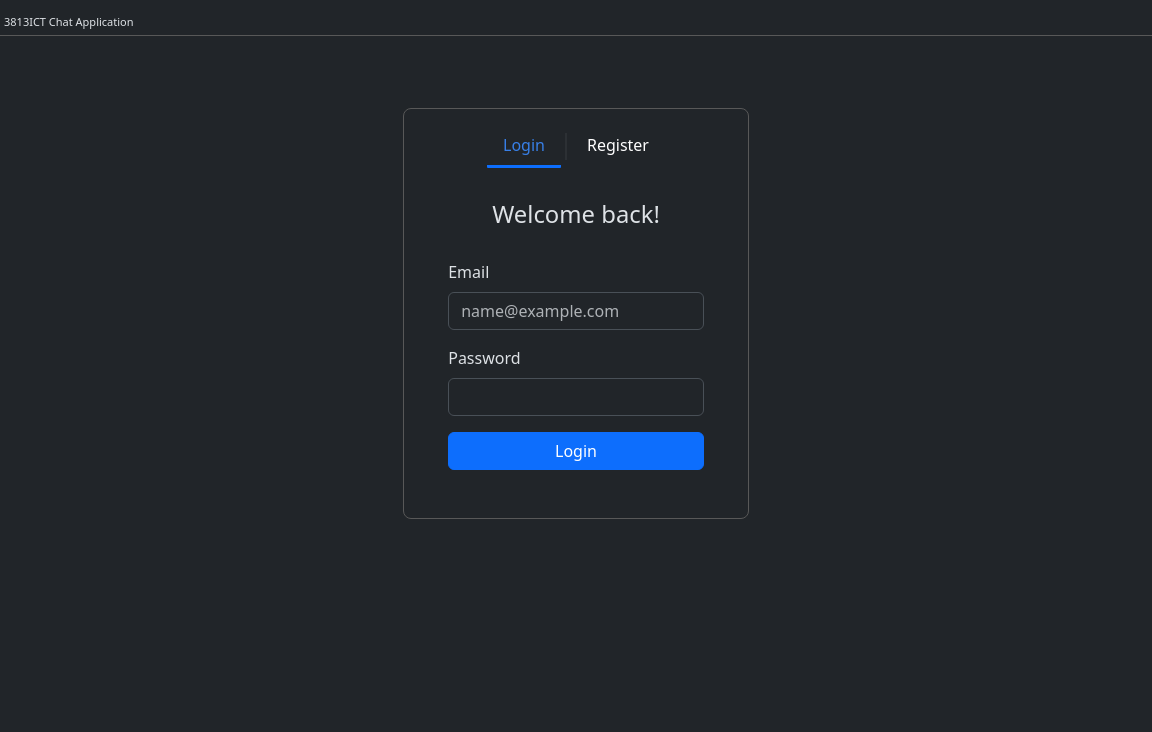
Test case: Register Flow E2E Test › Should display account registration form
Step 1. Click the tab "Register" → {"x": 618, "y": 147}, box [571, 125, 665, 168]
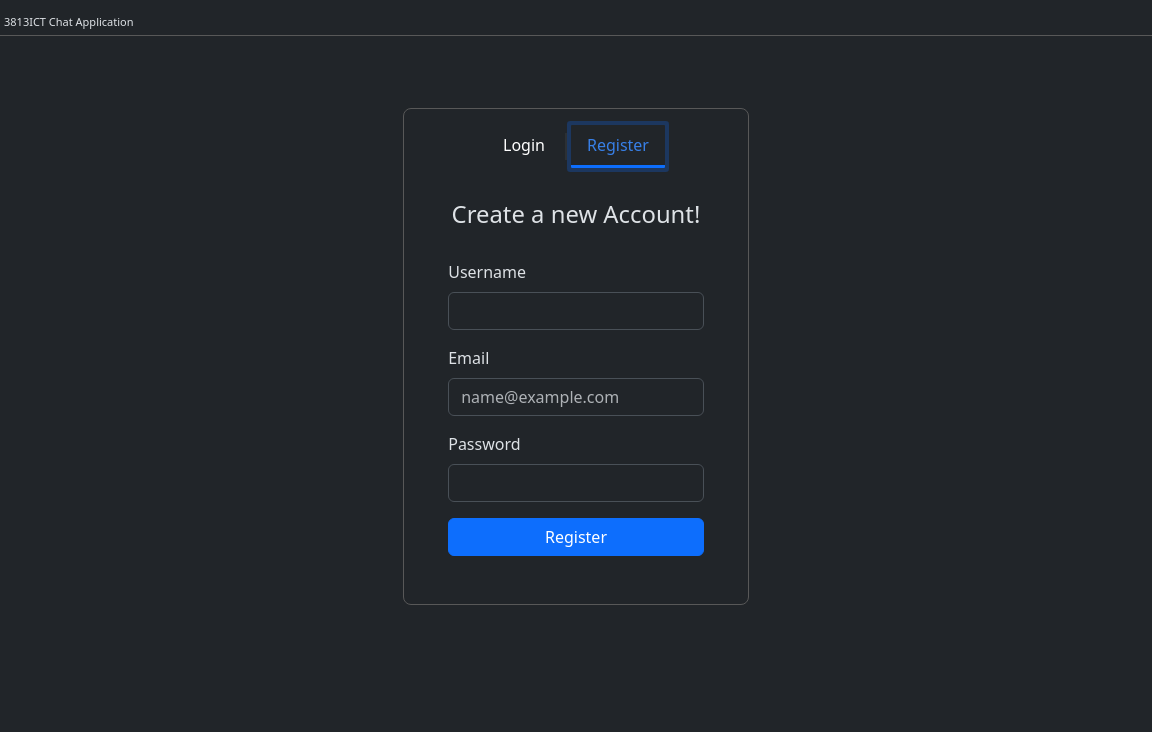
Expected: the field with id "email" is shown, [448, 378, 704, 416]
Expected: the heading "Create a new Account!" is shown, [448, 200, 704, 228]
Expected: the field with id "username" is shown, [448, 292, 704, 330]
